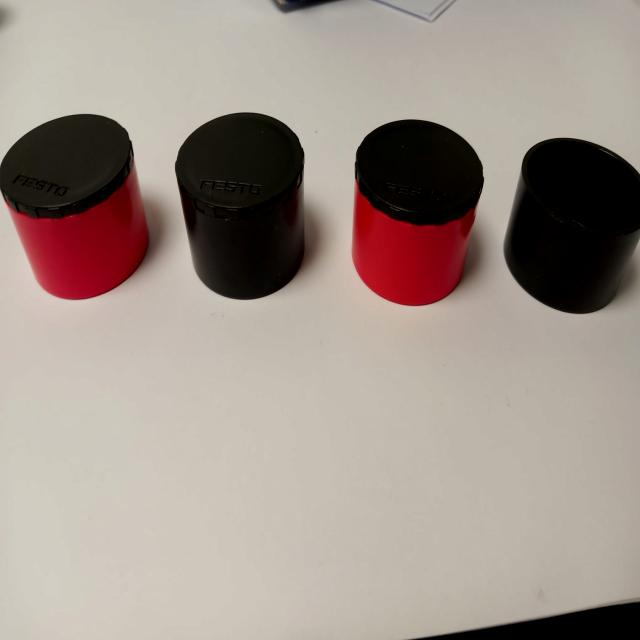NoLid: (511, 119, 640, 321)
Workpiece: (166, 108, 324, 305), (8, 115, 149, 313), (356, 105, 483, 317)
